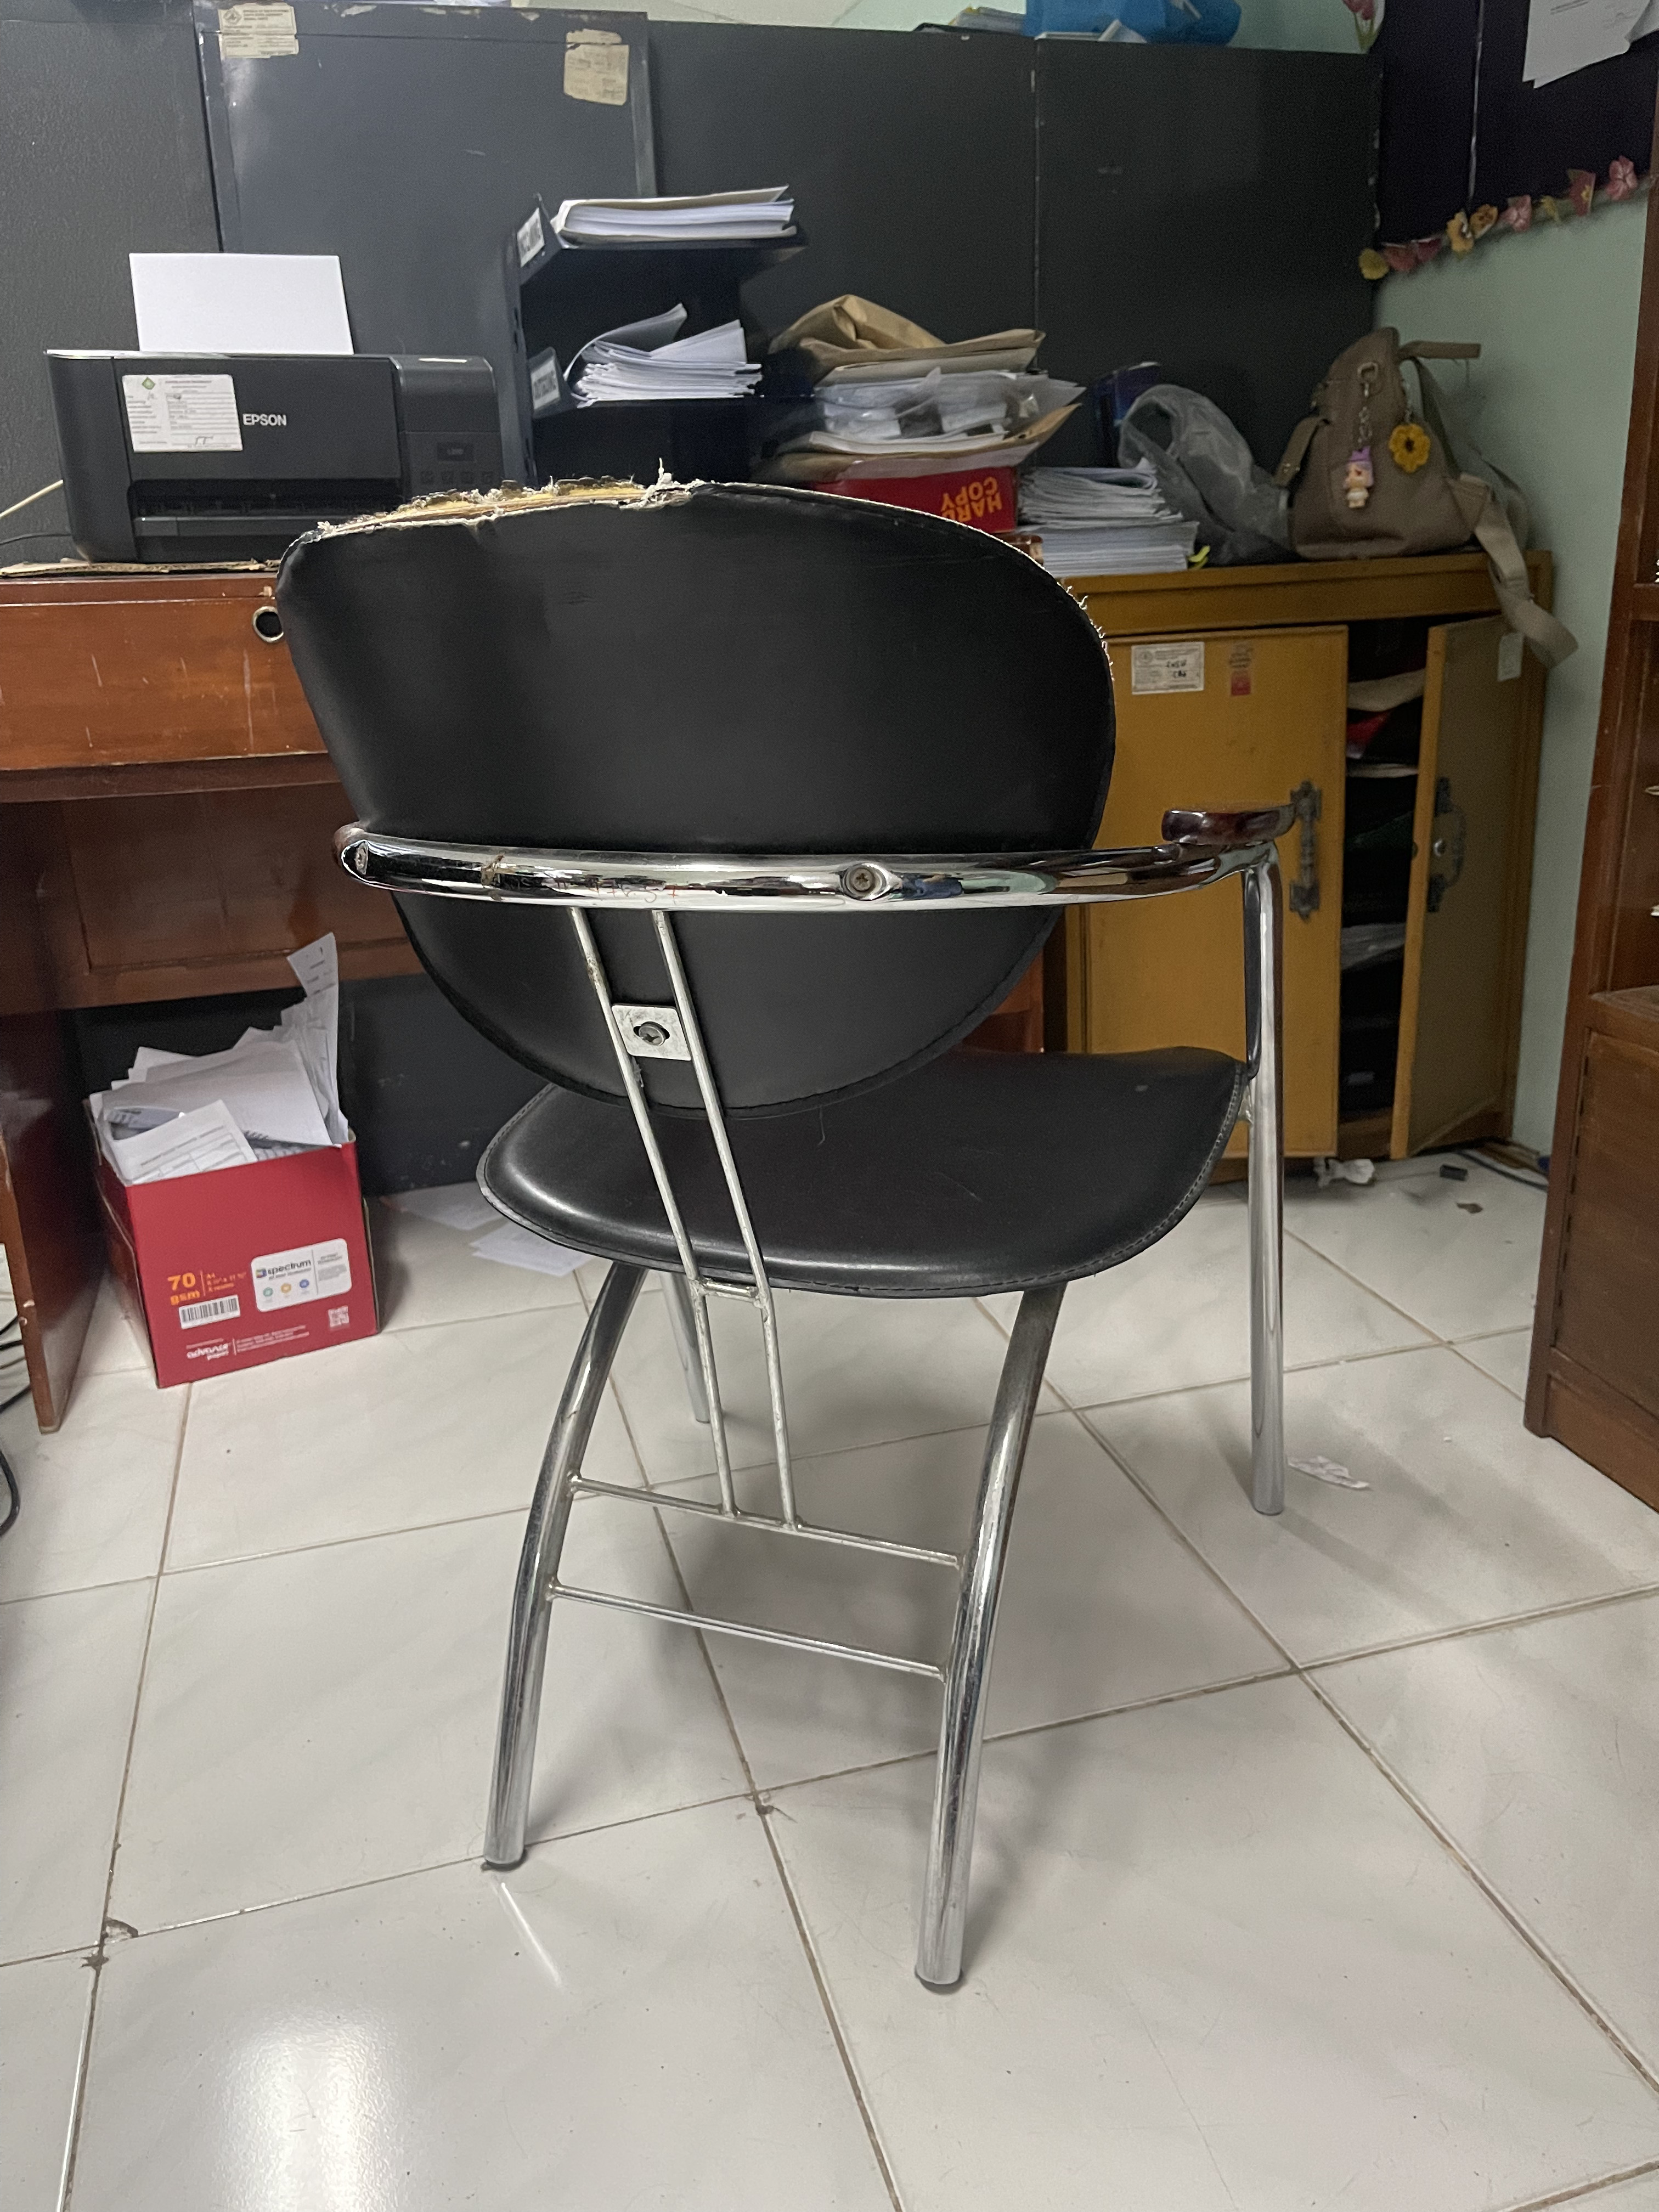chair1: (268, 514, 1309, 2008)
